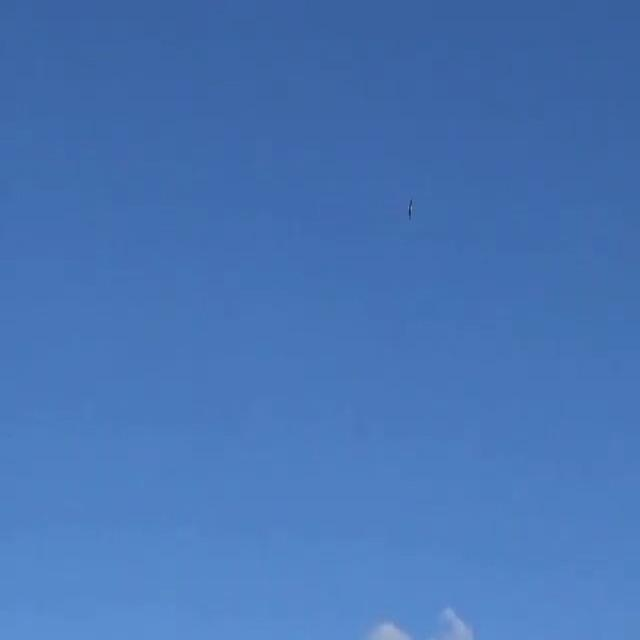bird: (403, 191, 420, 224)
